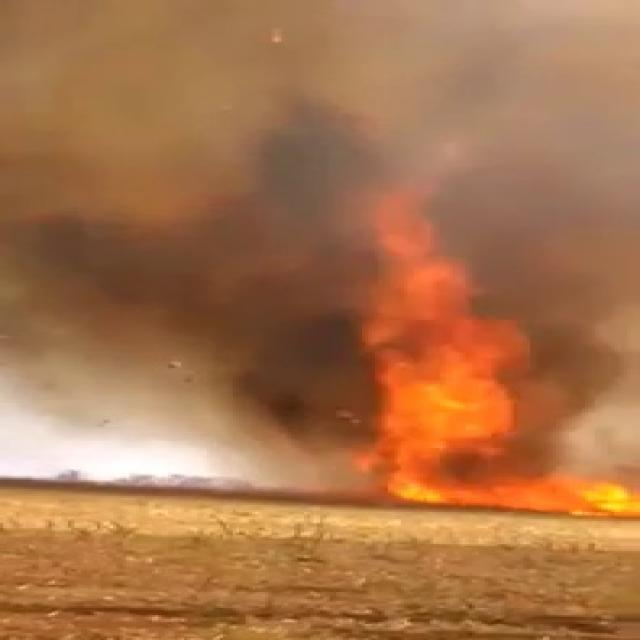Fire: (362, 186, 630, 520)
Smoke: (26, 11, 604, 448)
